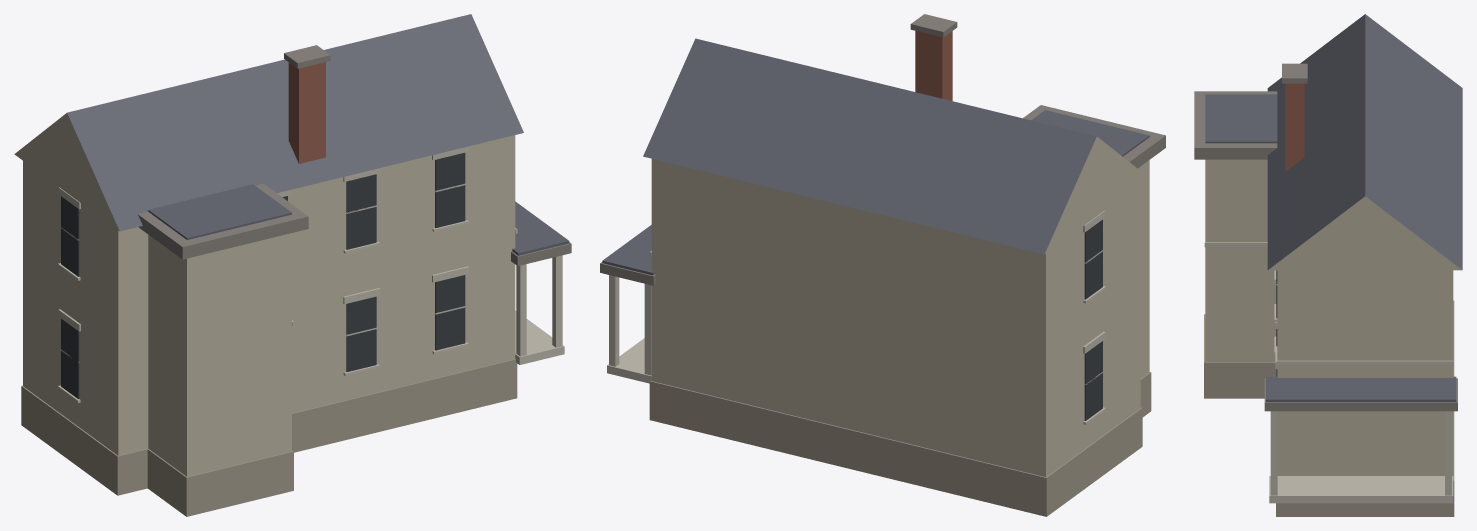
Rendered from house_1630_prairie__draft_1904.glb.
3 renders of one model, left to right at view 1: azimuth 30°, elevation 25°; view 2: azimuth 150°, elevation 25°; view 3: azimuth 270°, elevation 25°, orthographic. The views are drawn at different scales.
Visible parts, largest first — view 1: house_1630_prairie__draft_1904; view 2: house_1630_prairie__draft_1904; view 3: house_1630_prairie__draft_1904.
Part boxes in pixels (left/top/right/bottom): house_1630_prairie__draft_1904: left=14, top=14, right=571, bottom=516; house_1630_prairie__draft_1904: left=600, top=14, right=1165, bottom=516; house_1630_prairie__draft_1904: left=1194, top=14, right=1462, bottom=516.
Bounding box in the file's own units: 15.02 × 12.29 × 8.4.
